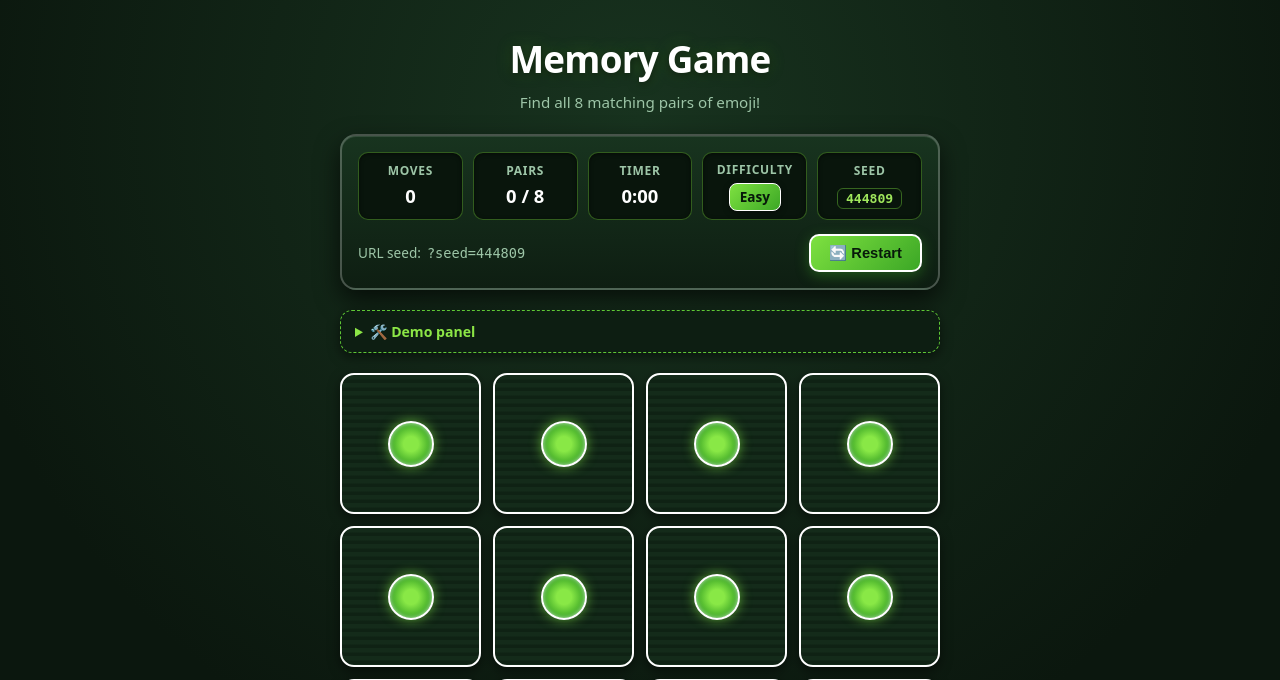
Test: Memory Game UI (App.jsx) › clicking restart resets moves, pairs, and timer
The width and height of the screenshot is (1280, 680).
Click the button named "Card 1: hidden": (410,444) [340,374,481,514]
Wait 2100 ms
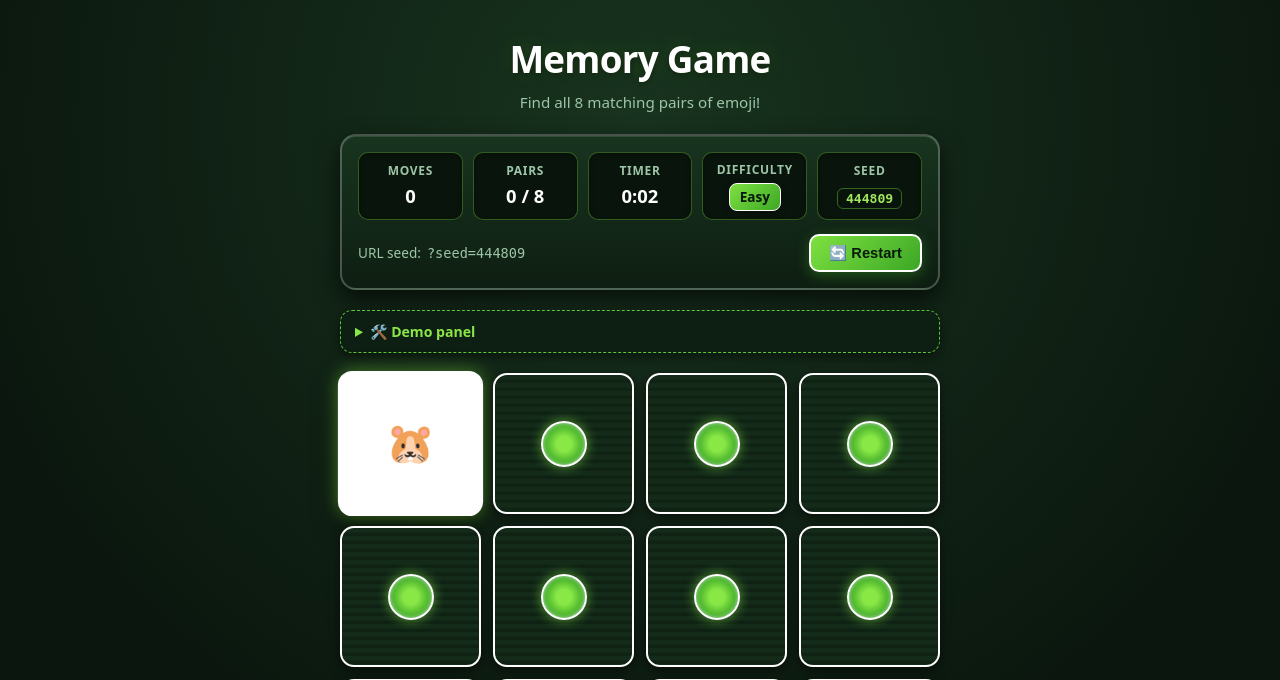
Result: the text "0:02" is shown at [622,182,658,210]
Click the button "🔄 Restart": (865,253) [809,234,922,272]
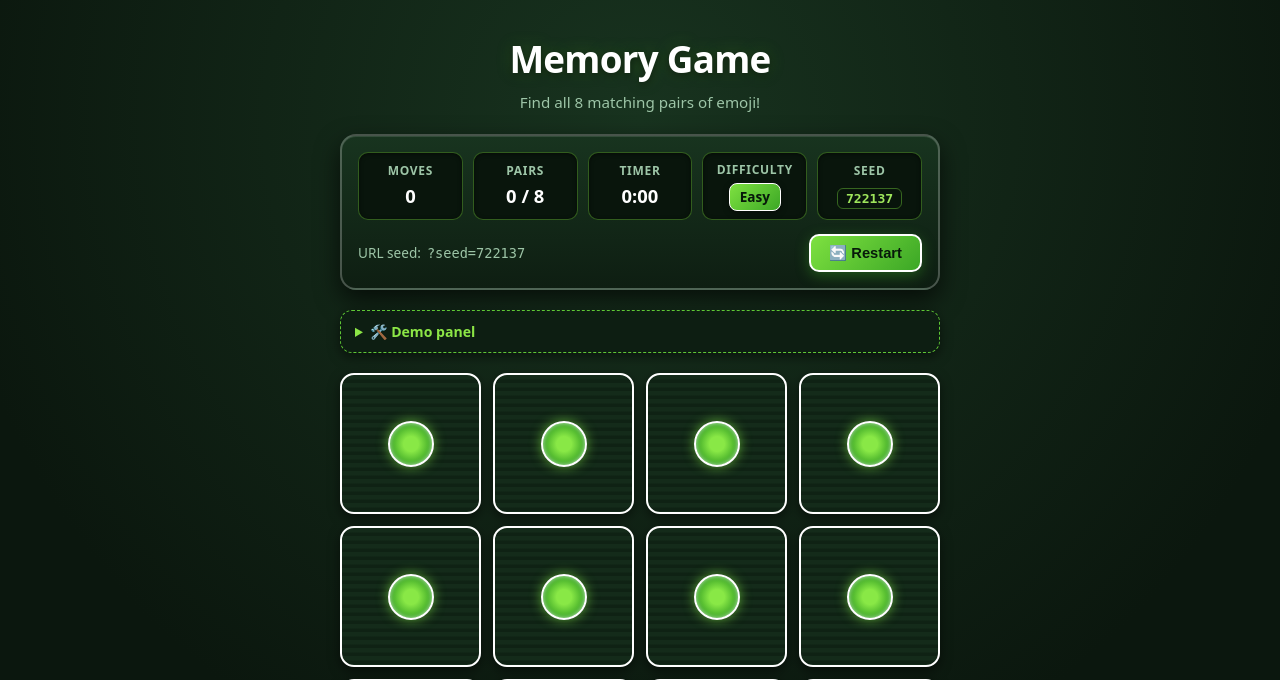
Expected: the text "0 / 8" is shown, [506,182,544,210]
Result: the text "0:00" is shown at [622,182,658,210]
